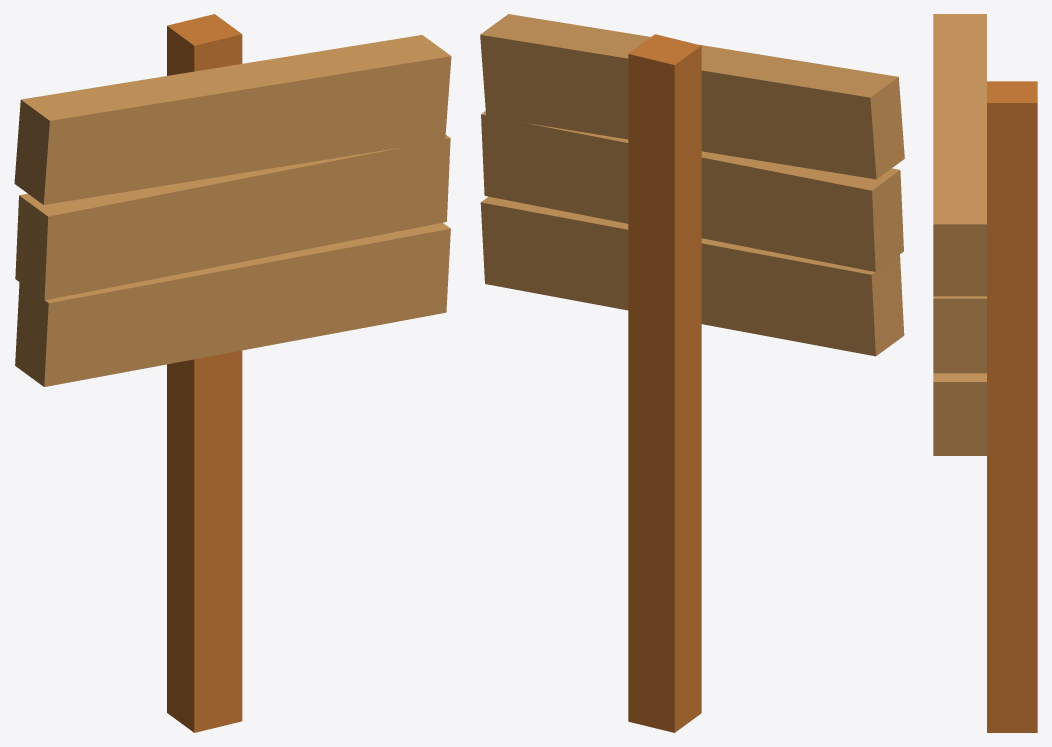
File: board.fbx
3 views of the same model, side by side, from view 1: azimuth 30°, elevation 25°; view 2: azimuth 150°, elevation 25°; view 3: azimuth 270°, elevation 25° (orthographic). The views are drawn at different scales.
Visible parts, largest first — view 1: board; view 2: board; view 3: board.
Part boxes in pixels (bbox=[...]): board: bbox=[14, 14, 451, 732]; board: bbox=[480, 14, 904, 732]; board: bbox=[933, 14, 1037, 732].
Size of the model in its own units: 202 by 326 by 48.86.
